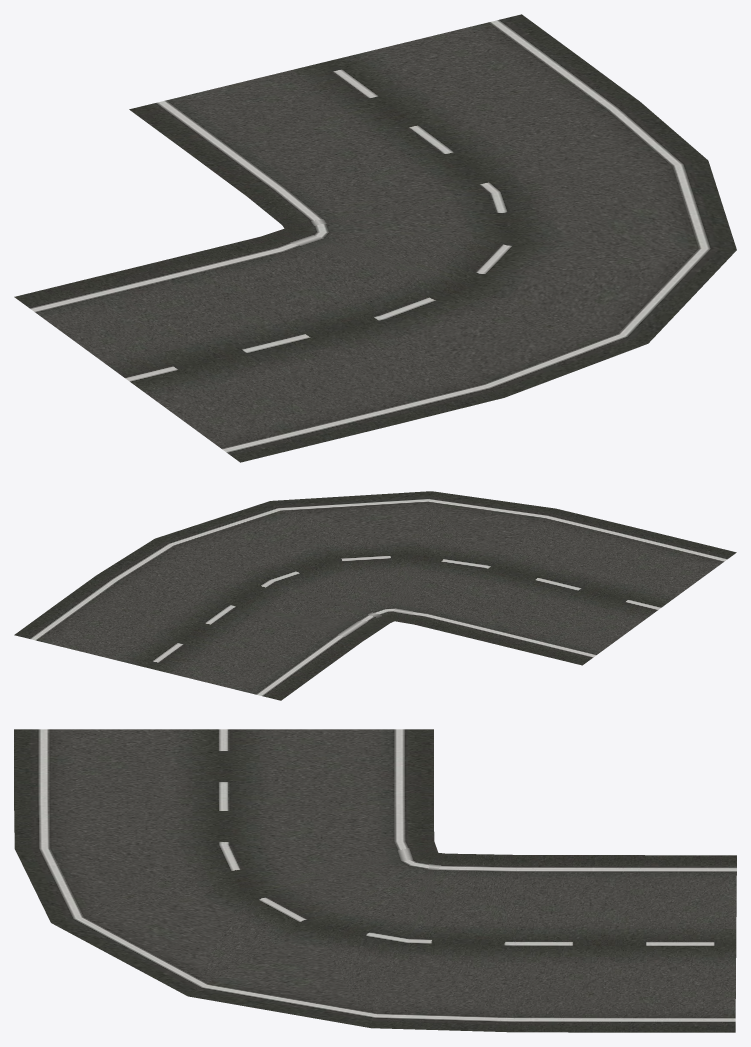
The model's file is sving.fbx.
The picture shows the model from 3 angles, top to bottom: view 1: azimuth 30°, elevation 25°; view 2: azimuth 150°, elevation 25°; view 3: azimuth 270°, elevation 25°; orthographic projection. The views are drawn at different scales.
Visible parts, largest first — view 1: Plane.001; view 2: Plane.001; view 3: Plane.001.
Part boxes in pixels (x1=…): Plane.001: x1=14, y1=14, x2=736, y2=462; Plane.001: x1=14, y1=491, x2=736, y2=700; Plane.001: x1=14, y1=729, x2=736, y2=1032.
Size of the model in its own units: 1197 by 0.000112 by 1205.
